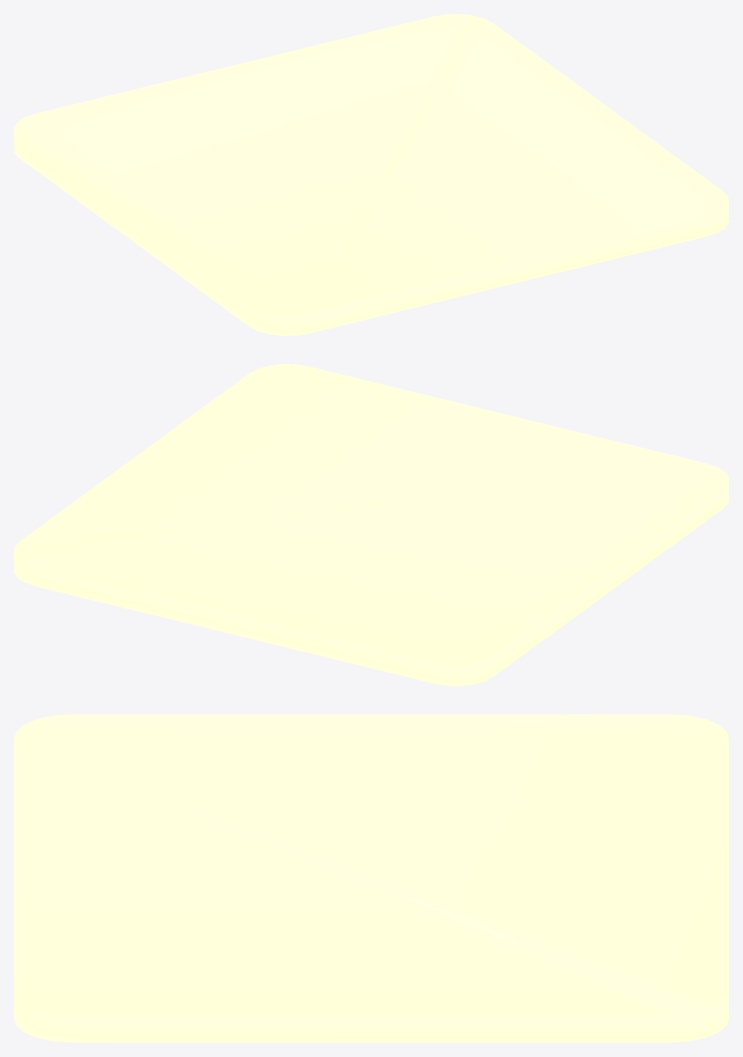
File: Golden_04.gltf
The picture shows the model from 3 angles, top to bottom: view 1: azimuth 30°, elevation 25°; view 2: azimuth 150°, elevation 25°; view 3: azimuth 270°, elevation 25°; orthographic projection. The views are drawn at different scales.
Visible parts, largest first — view 1: PF_Golden_4; view 2: PF_Golden_4; view 3: PF_Golden_4.
Part boxes in pixels (<box>): PF_Golden_4: <box>14,14,728,335</box>; PF_Golden_4: <box>14,364,728,685</box>; PF_Golden_4: <box>14,714,728,1042</box>.
Bounding box in the file's own units: 117 × 4.68 × 117.
Materials: 3 (1 with a texture image).
